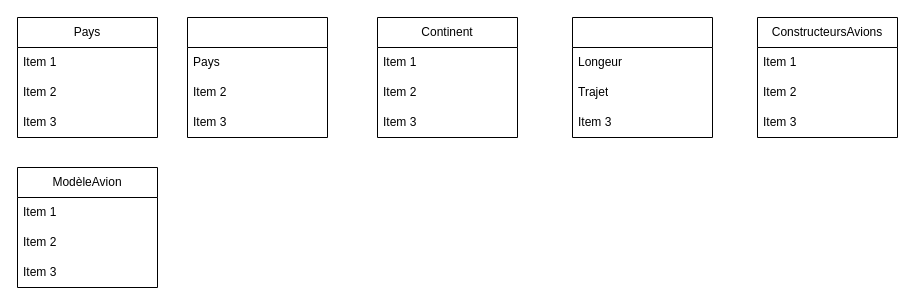
This 915x305 diagram has some shape labels left out. Here are the shapes that lost their labels. From the top down, the box of each, then its label:
(186, 16, 328, 138): Compagnie
(572, 16, 712, 138): Vol
